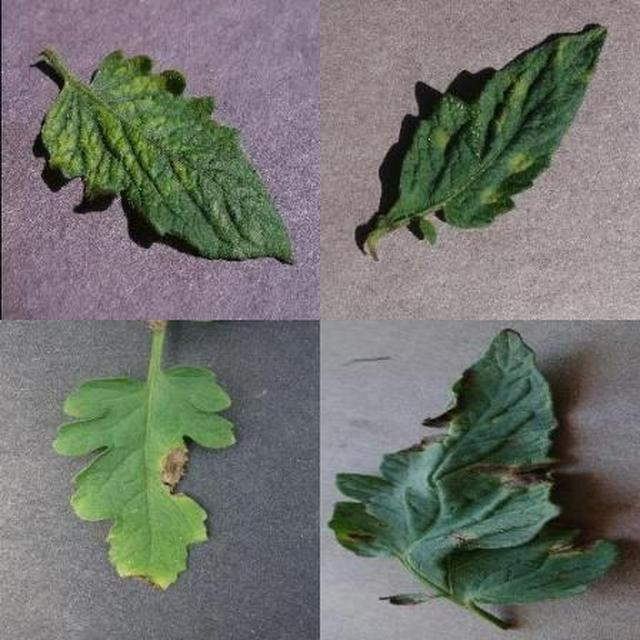Mosaic Virus Leaf: (207, 181, 640, 640)
